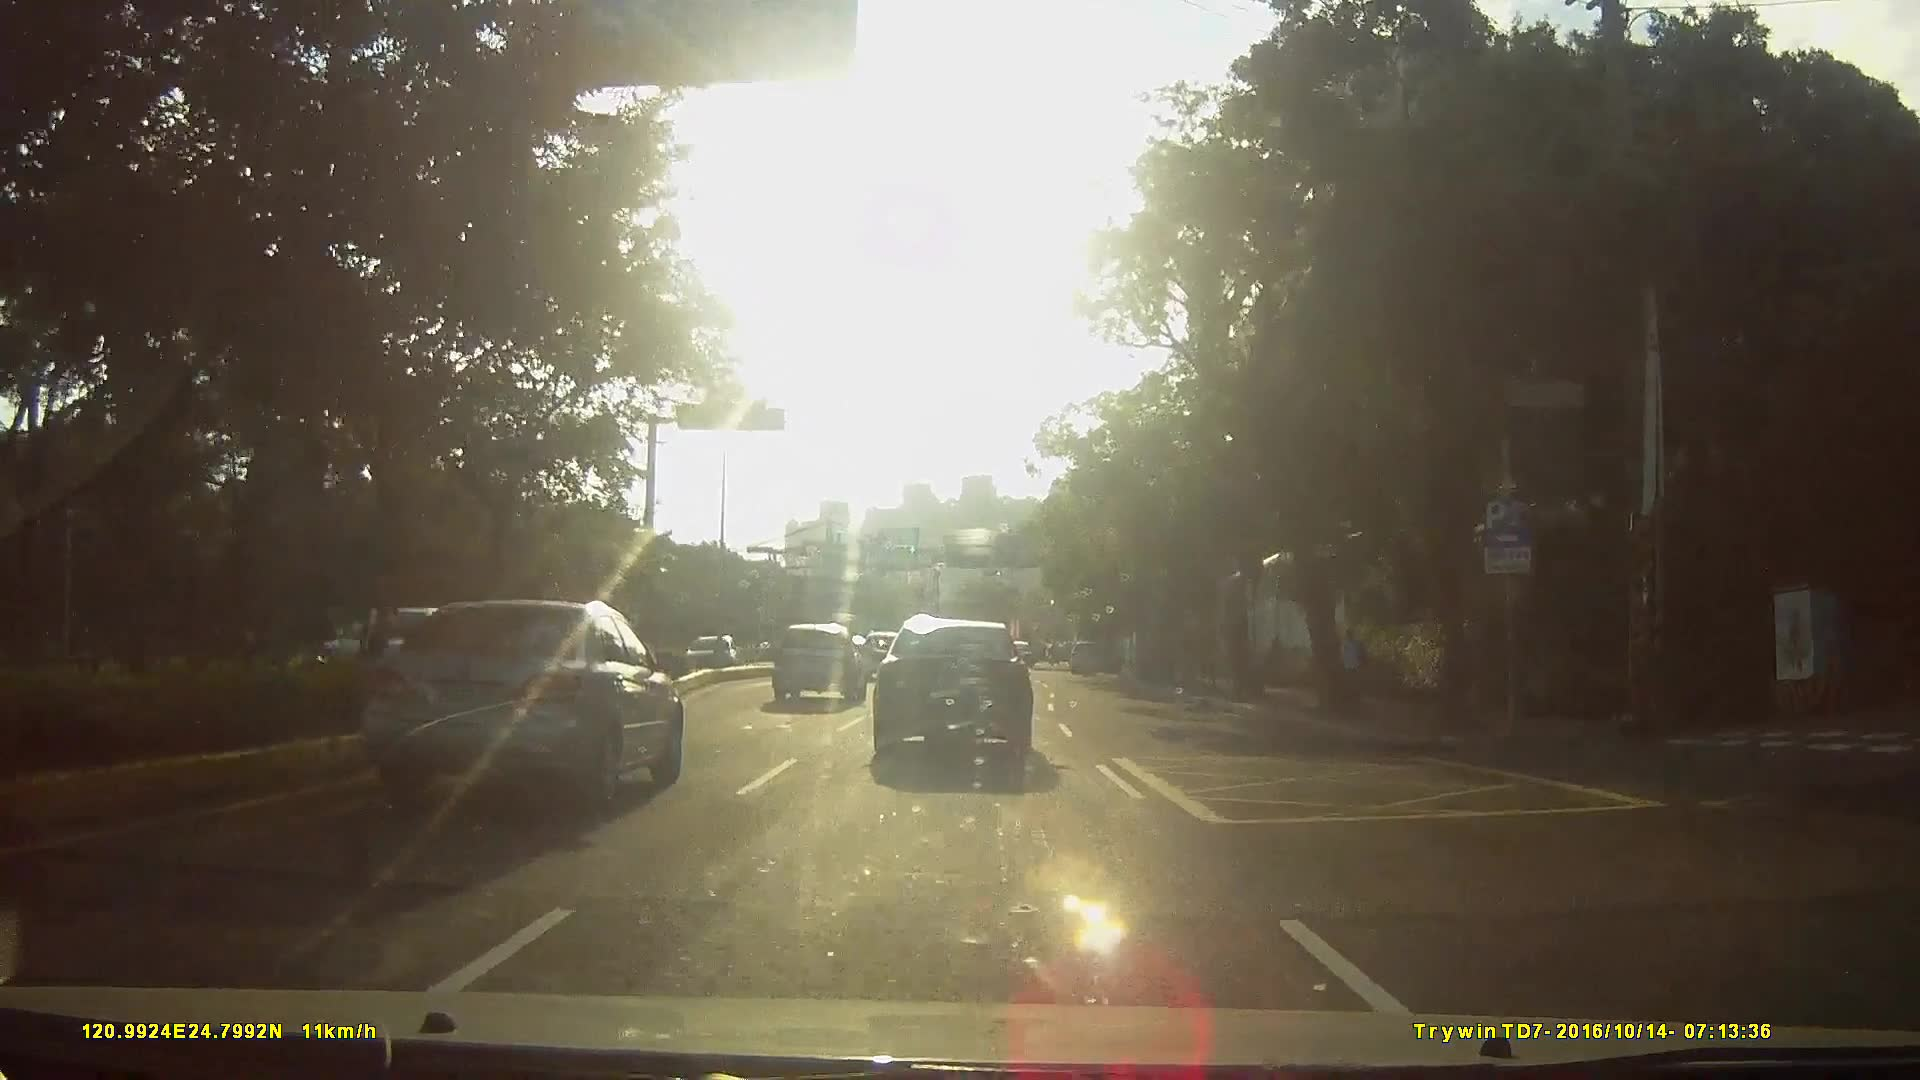vehicle: (356, 596, 682, 808), (866, 621, 1048, 770), (766, 624, 865, 709), (666, 632, 724, 674), (1063, 641, 1100, 676)
